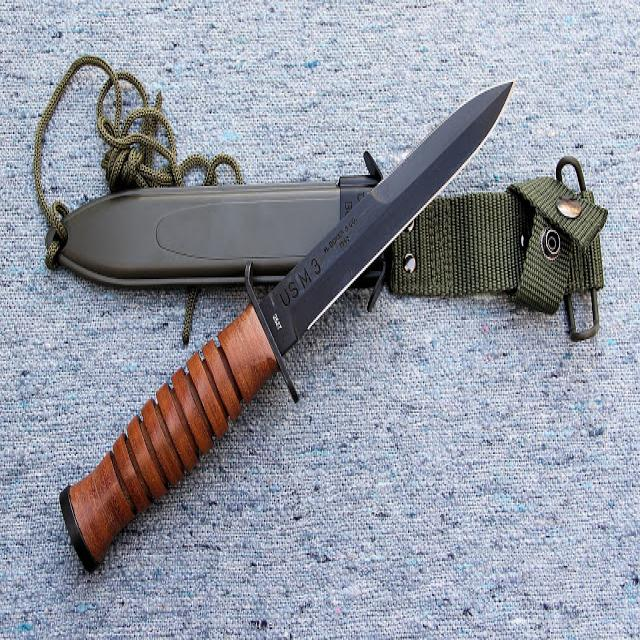knife: (48, 83, 518, 571)
